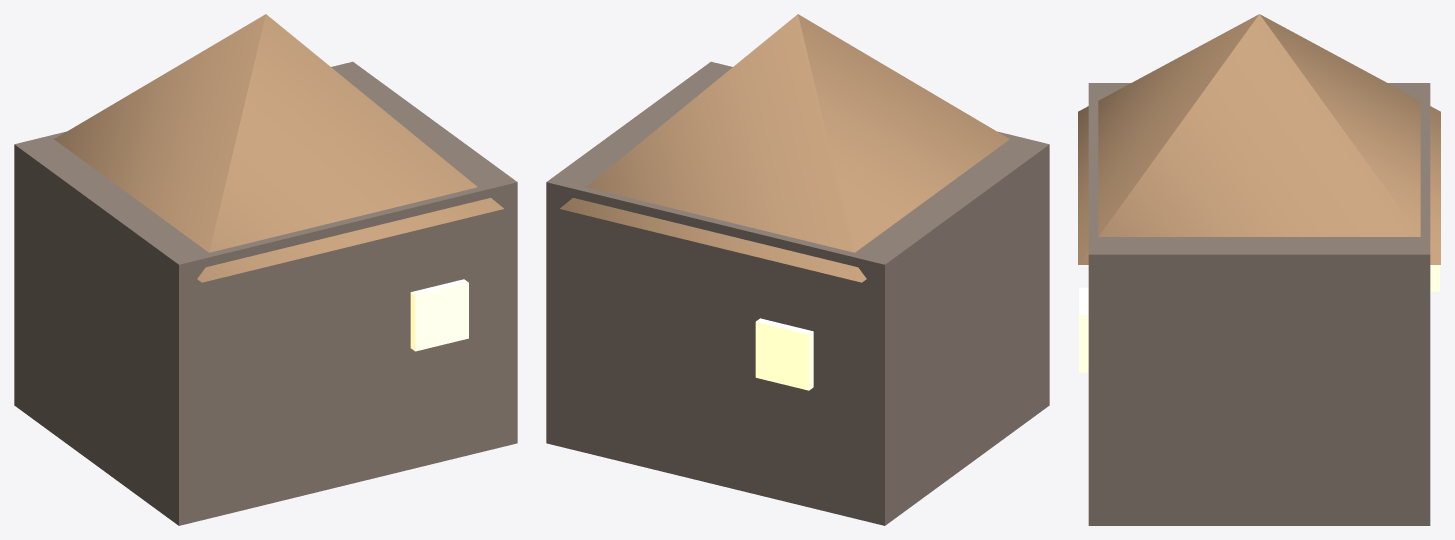
File: habitat.glb
3 renders of one model, left to right at view 1: azimuth 30°, elevation 25°; view 2: azimuth 150°, elevation 25°; view 3: azimuth 270°, elevation 25°, orthographic. The views are drawn at different scales.
Size of the model in its own units: 1.9 by 2.2 by 1.7.
